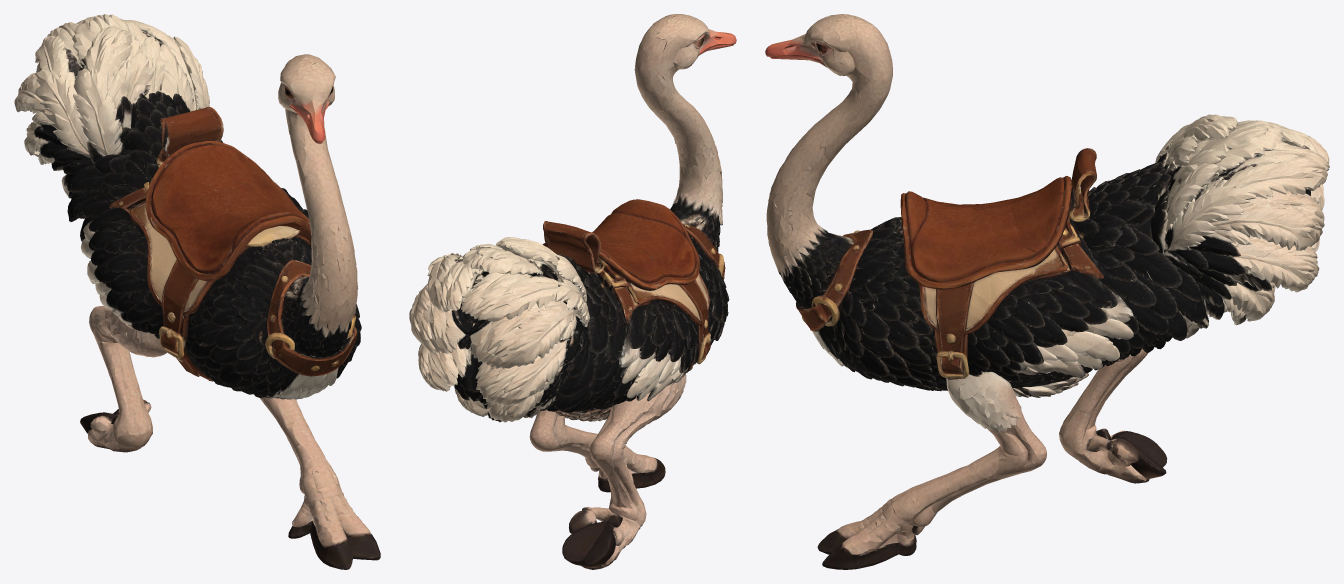
File: ostrich.glb
3 views of the same model, side by side, from view 1: azimuth 30°, elevation 25°; view 2: azimuth 150°, elevation 25°; view 3: azimuth 270°, elevation 25° (orthographic). The views are drawn at different scales.
Bounding box in the file's own units: 0.8173 × 1.9 × 1.87.
Materials: 1 (1 with a texture image).
